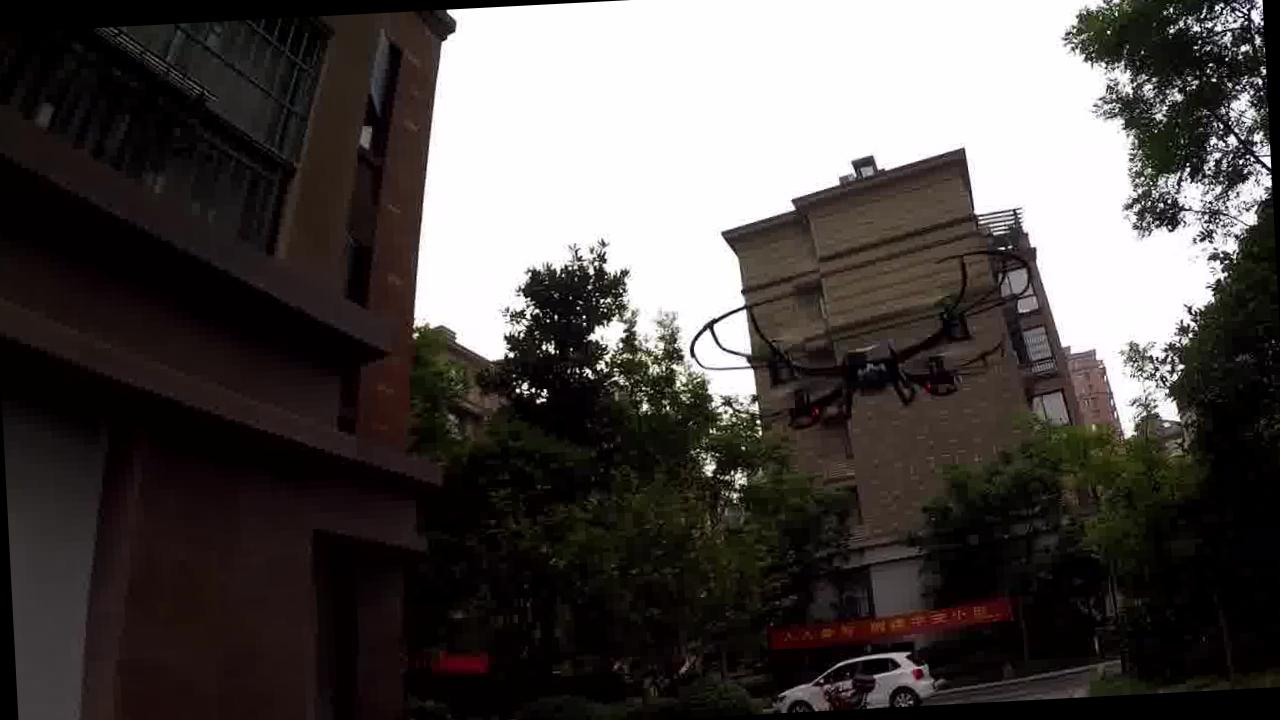drone: (685, 262, 1052, 436)
